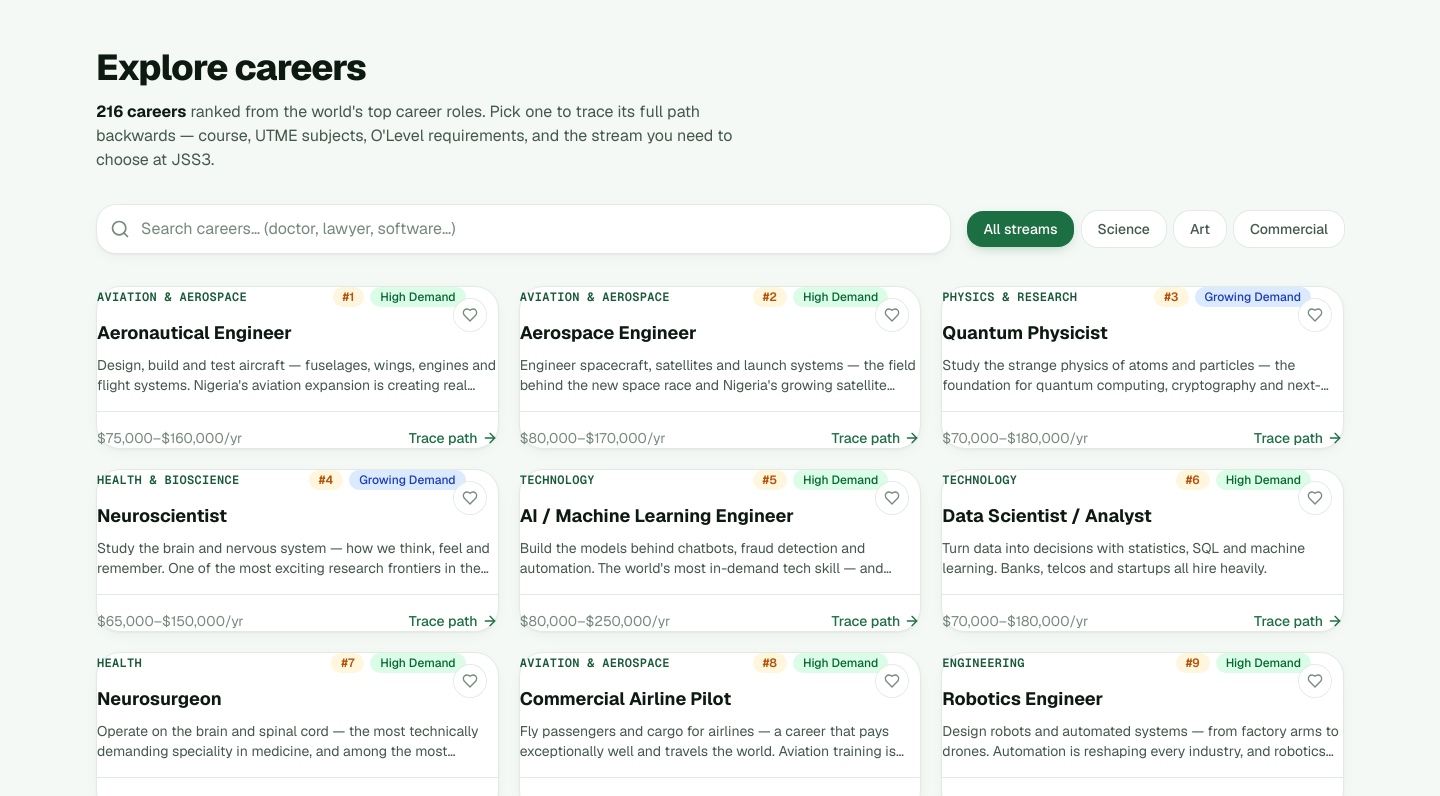
Test: CareersExplorer › filters careers by search query
Step 1. Type "doctor" into the field labelled "Search careers" → (524, 229), box [96,204,952,254]
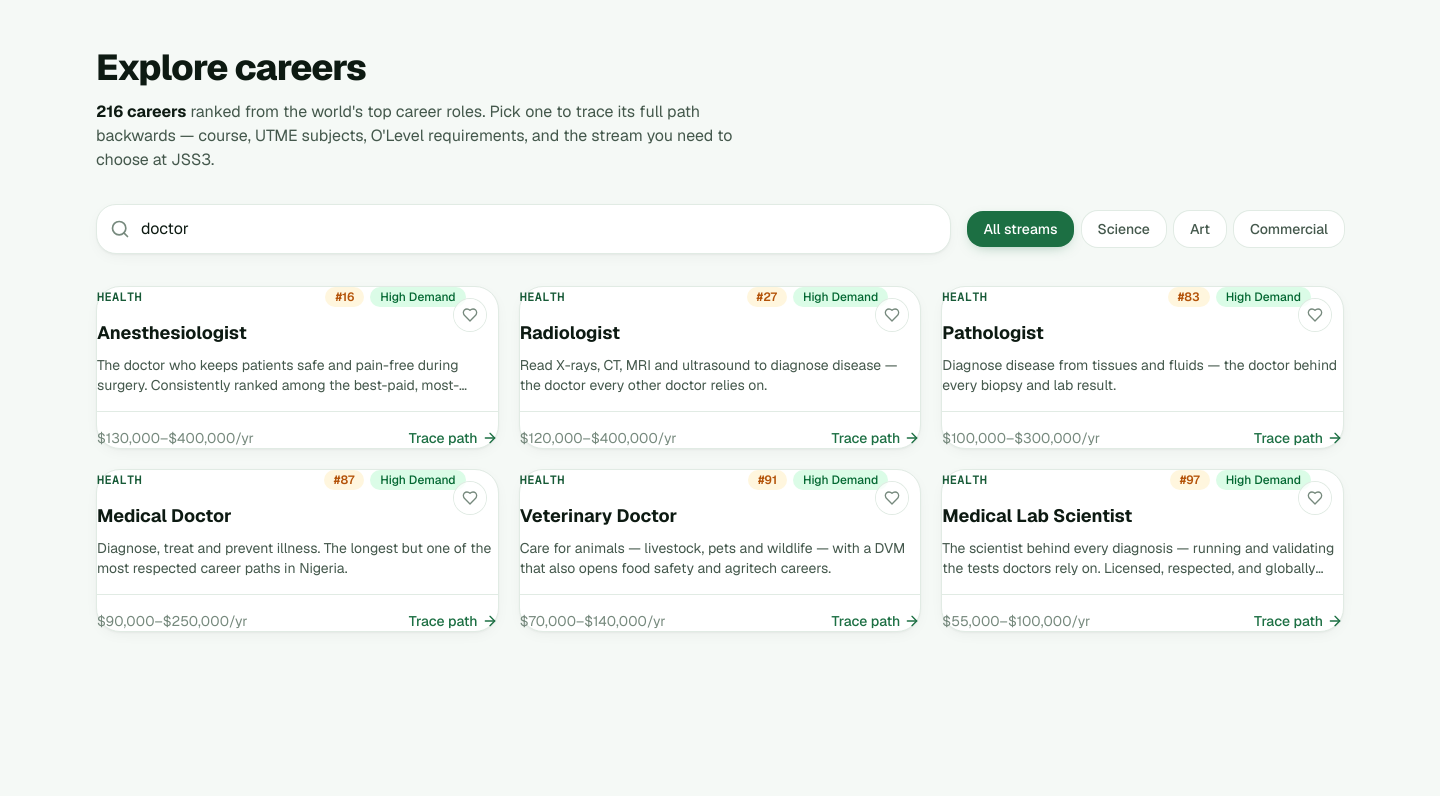
expect the text "Lawyer" is not shown: met
expect the heading "Medical Doctor" is shown: met, box [97,504,232,527]
